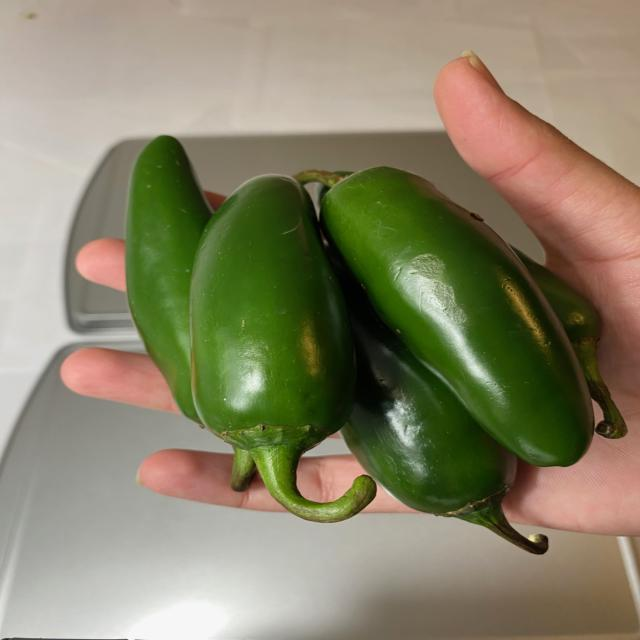chilli: (127, 128, 628, 566)
